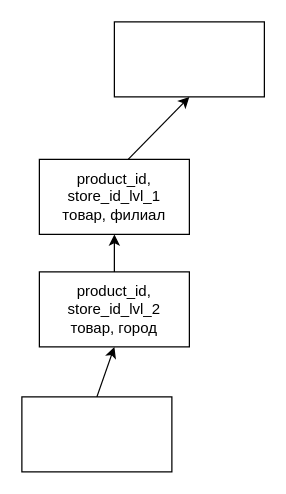
Some shapes in this 286 by 494 pixel diagram are drawn without their labels. Here are the shapes that lost their labels. From the top down, the centre of each, then its label:
the point at 188,59: product_id_lvl_1, store_id_lvl_1 категория, филиал
the point at 96,434: product_id, store_id товар, магазин
